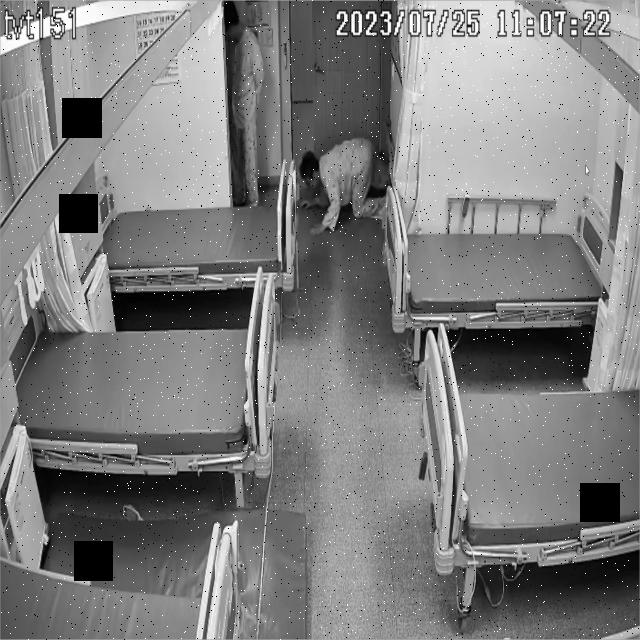bed: (420, 324, 640, 569), (14, 318, 278, 470), (382, 213, 616, 332), (105, 192, 294, 290)
fall: (302, 139, 392, 233)
patient: (301, 143, 393, 233), (222, 0, 260, 205)
stand: (222, 0, 260, 204)
